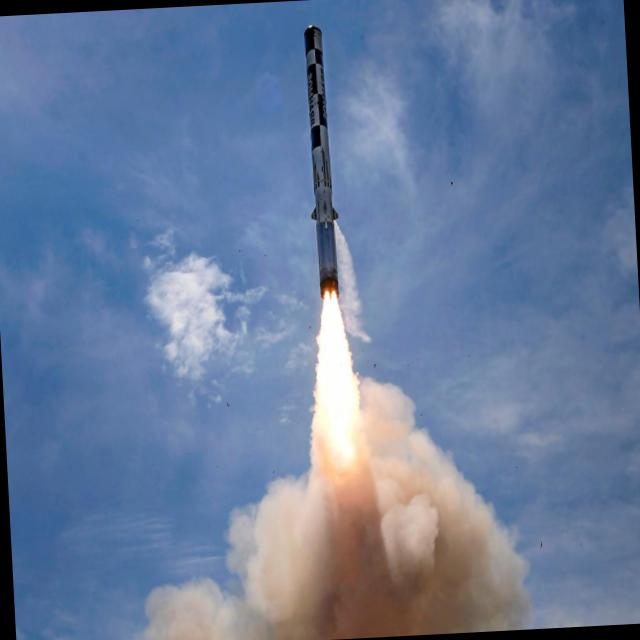rocket: (291, 17, 360, 425)
